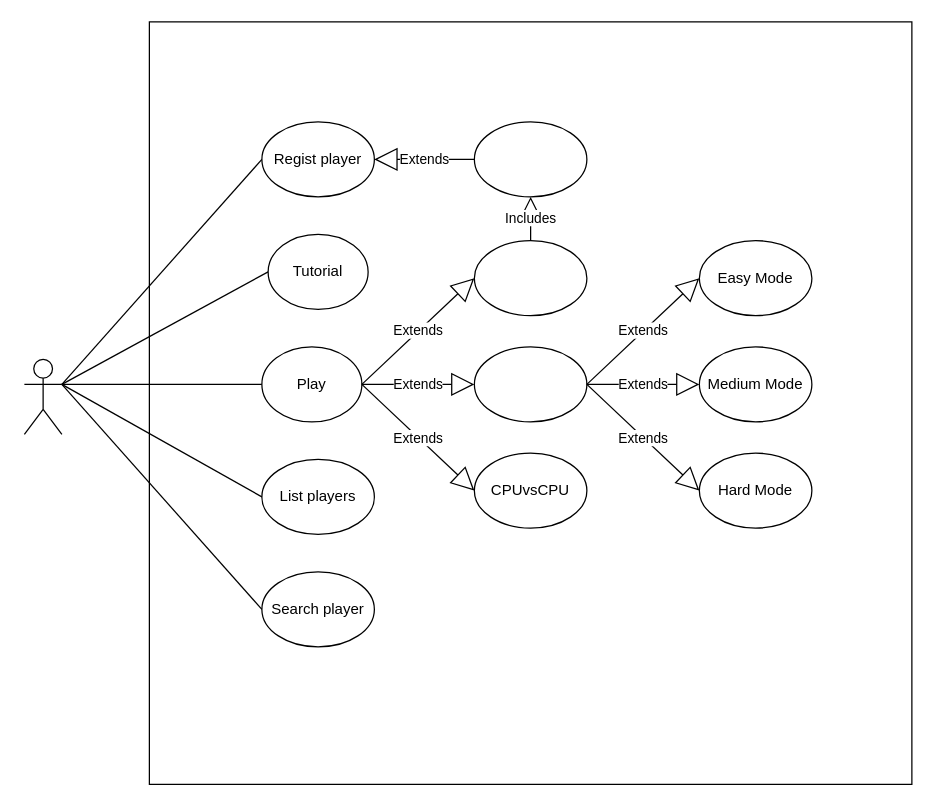
The diagram is 934 pixels wide and 806 high, and some of its shapes have lost their labels. Here are the shapes that lost their labels. From the top down, the centre of each, then its label:
At point 530,159: "Input players name".
At point 530,277: "PlayerVsPlayer".
At point 42,396: "Player".
At point 530,384: "PlayerVsCPU".
